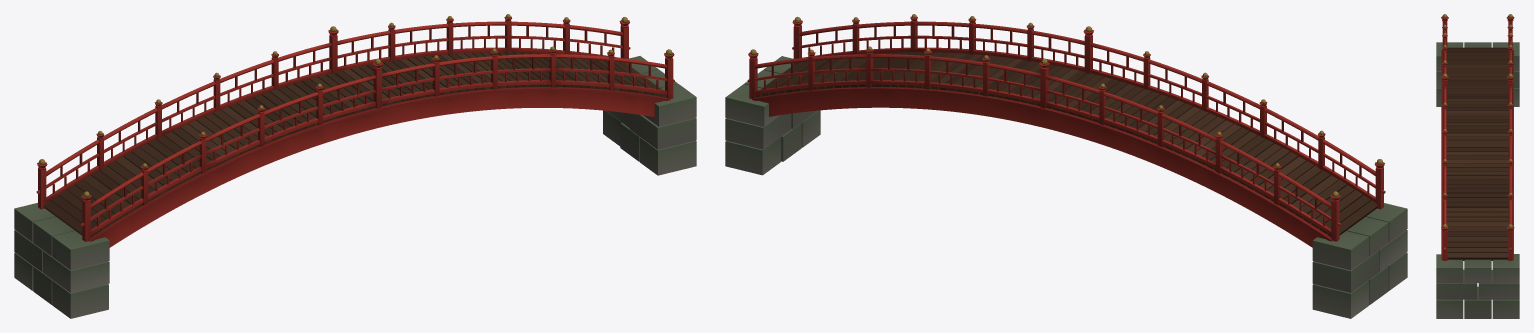
File: bridge.glb
3 views of the same model, side by side, from view 1: azimuth 30°, elevation 25°; view 2: azimuth 150°, elevation 25°; view 3: azimuth 270°, elevation 25° (orthographic). The views are drawn at different scales.
Visible parts, largest first — view 1: bridge; view 2: bridge; view 3: bridge.
Part boxes in pixels (left/top/right/bottom): bridge: left=14, top=14, right=696, bottom=318; bridge: left=725, top=14, right=1407, bottom=318; bridge: left=1436, top=14, right=1519, bottom=318.
Bounding box in the file's own units: 10.1 × 2.76 × 1.58.
